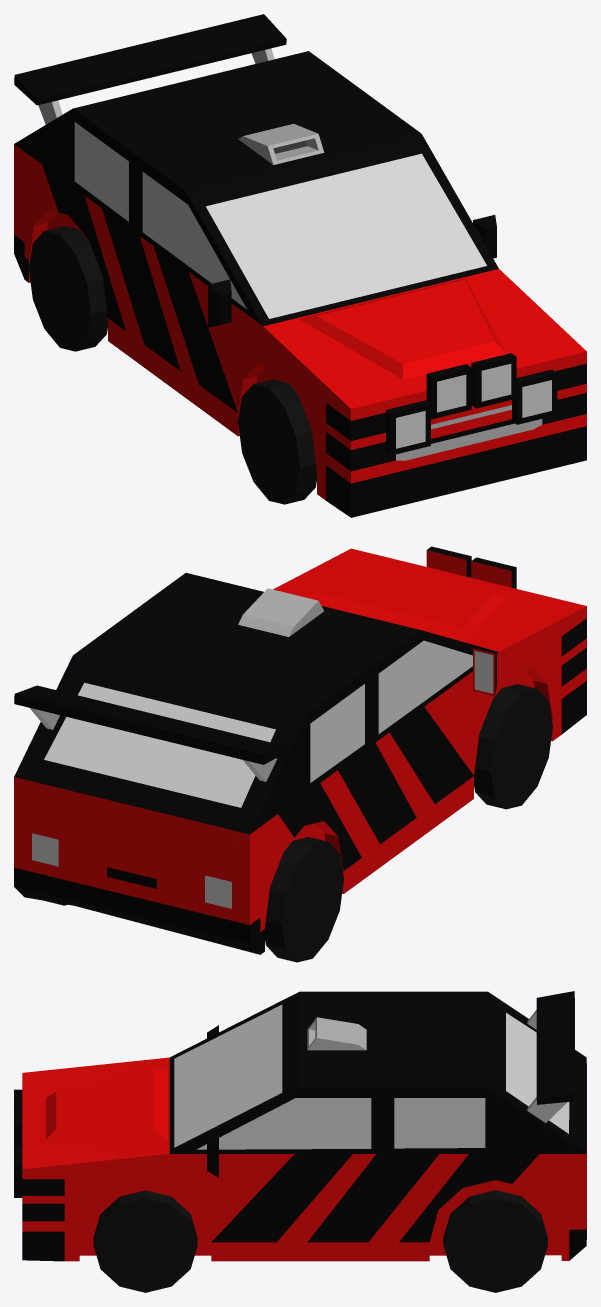
The model's file is ralley_car.gltf.
3 renders of one model, top to bottom at view 1: azimuth 30°, elevation 25°; view 2: azimuth 150°, elevation 25°; view 3: azimuth 270°, elevation 25°, orthographic. The views are drawn at different scales.
Parts seen in each view (by area): view 1: RalleyCar, SR_Veh_RalleyCar_Wheel_RR, SR_Veh_RalleyCar_Wheel_FR; view 2: RalleyCar, SR_Veh_RalleyCar_Wheel_RR, SR_Veh_RalleyCar_Wheel_FR; view 3: RalleyCar, SR_Veh_RalleyCar_Wheel_RL, SR_Veh_RalleyCar_Wheel_FL.
Boxes of the visible parts, x1,y1,x2,y2 form: RalleyCar: [14, 14, 586, 517]; SR_Veh_RalleyCar_Wheel_RR: [28, 226, 107, 351]; SR_Veh_RalleyCar_Wheel_FR: [238, 379, 316, 504]; RalleyCar: [14, 546, 586, 954]; SR_Veh_RalleyCar_Wheel_RR: [265, 837, 343, 962]; SR_Veh_RalleyCar_Wheel_FR: [474, 684, 552, 809]; RalleyCar: [14, 991, 586, 1261]; SR_Veh_RalleyCar_Wheel_RL: [443, 1190, 547, 1292]; SR_Veh_RalleyCar_Wheel_FL: [93, 1190, 197, 1292].
Size of the model in its own units: 3.29 by 2.79 by 6.79.
